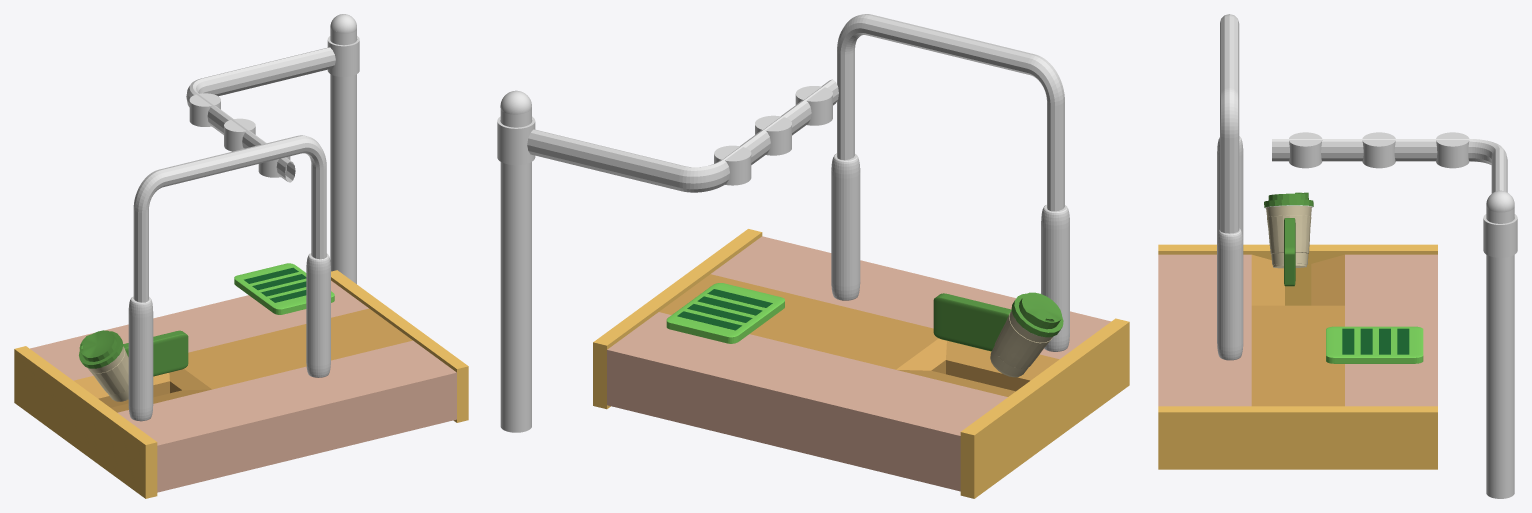
The picture shows the model from 3 angles, left to right: view 1: azimuth 30°, elevation 25°; view 2: azimuth 150°, elevation 25°; view 3: azimuth 270°, elevation 25°; orthographic projection. The views are drawn at different scales.
Parts seen in each view (by area): view 1: Cube.003, Cube.013, Cube.002, Cube.001, Cube.007, Cylinder, Cube, Cylinder.006, Cylinder.005, Cube.014, spotLight4.002, Cube.017 (+7 smaller); view 2: Cube.001, Cube.013, Cube.003, Cube.007, Cylinder, Cube.002, Cube, Cylinder.005, spotLight4.002, Cube.014, Cylinder.006, Cube.025 (+9 smaller); view 3: Cube.014, Cube.003, Cube.001, Cube.002, Cylinder, Cube.007, Cube, Cube.013, Cylinder.005, spotLight4.002, Cube.017, Cube.005 (+9 smaller).
Part boxes in pixels (x1,y1,x2,y2): Cube.003: (117, 340, 456, 492); Cube.013: (14, 346, 157, 498); Cube.002: (184, 308, 412, 389); Cube.001: (30, 280, 368, 380); Cube.007: (133, 135, 326, 302); Cylinder: (330, 29, 356, 283); Cube: (186, 47, 335, 182); Cylinder.006: (128, 296, 153, 421); Cylinder.005: (306, 253, 330, 377); Cube.014: (331, 270, 468, 422); spotLight4.002: (79, 330, 128, 401); Cube.017: (234, 263, 334, 314); Cube.001: (607, 312, 1007, 491); Cube.013: (960, 318, 1129, 498); Cube.003: (711, 236, 1110, 359); Cube.007: (837, 14, 1064, 211); Cylinder: (500, 107, 531, 432); Cube.002: (659, 274, 938, 369); Cube: (527, 79, 838, 192); Cylinder.005: (831, 153, 860, 300); spotLight4.002: (990, 292, 1063, 377); Cube.014: (593, 229, 762, 409); Cylinder.006: (1041, 204, 1069, 351); Cube.025: (933, 293, 1011, 351); Cube.014: (1158, 406, 1437, 469); Cube.003: (1158, 254, 1251, 406); Cube.001: (1345, 254, 1437, 406); Cube.002: (1251, 305, 1344, 406); Cylinder: (1486, 207, 1514, 498); Cube.007: (1220, 14, 1239, 233); Cube: (1272, 139, 1507, 193); Cube.013: (1158, 244, 1437, 305); Cylinder.005: (1217, 228, 1243, 360); spotLight4.002: (1264, 192, 1313, 268); Cube.017: (1326, 326, 1423, 363); Cube.005: (1311, 254, 1344, 305).
Bounding box in the file's own units: 250 × 189 × 195.
